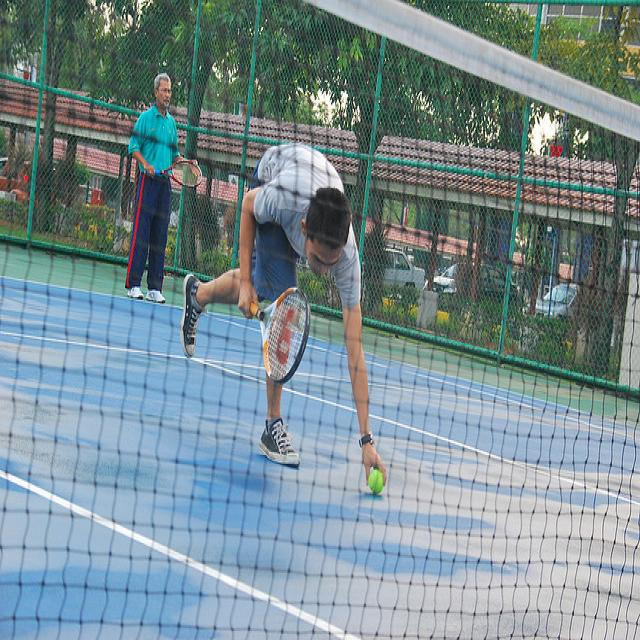Vehicle: (434, 264, 518, 303), (385, 248, 425, 291), (536, 281, 579, 320)
